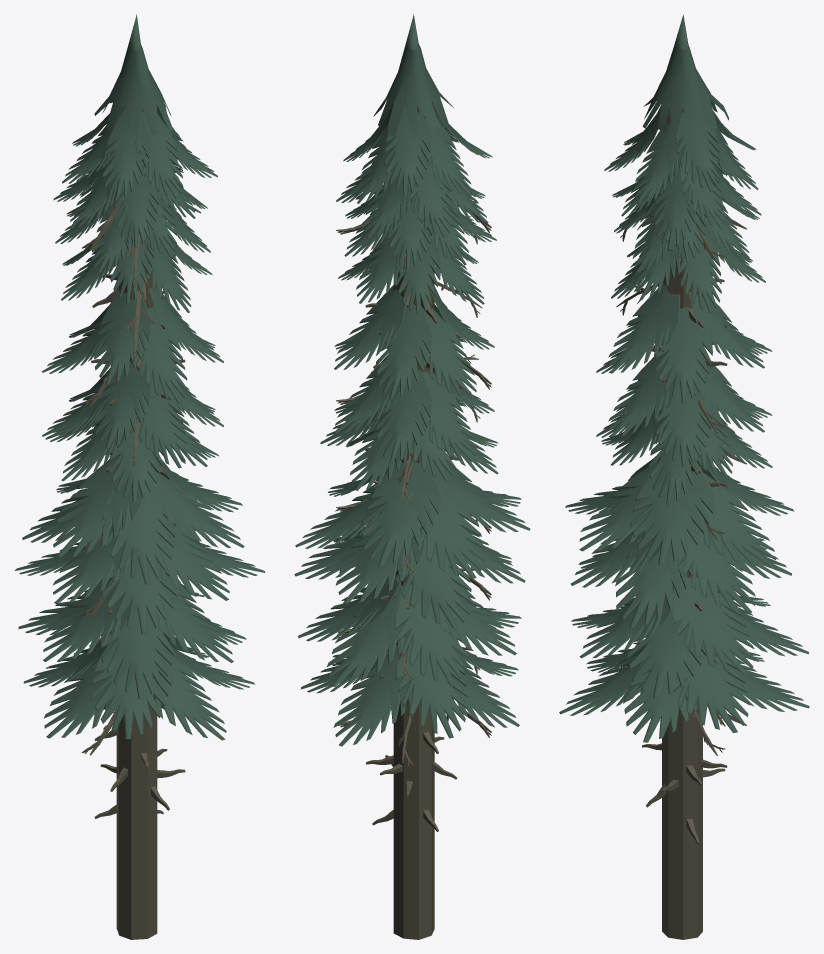
The model's file is LargeFull_PineTree.fbx.
3 renders of one model, left to right at view 1: azimuth 30°, elevation 25°; view 2: azimuth 150°, elevation 25°; view 3: azimuth 270°, elevation 25°, orthographic.
Visible parts, largest first — view 1: polySurface1552, polySurface1479; view 2: polySurface1552, polySurface1479; view 3: polySurface1552, polySurface1479.
Boxes of the visible parts, x1=… form: polySurface1552: x1=15, y1=14, x2=265, y2=740; polySurface1479: x1=81, y1=105, x2=185, y2=939; polySurface1552: x1=294, y1=14, x2=530, y2=746; polySurface1479: x1=336, y1=101, x2=491, y2=939; polySurface1552: x1=559, y1=14, x2=809, y2=742; polySurface1479: x1=616, y1=107, x2=746, y2=939.
Size of the model in its own units: 28.3 by 123 by 30.51.
